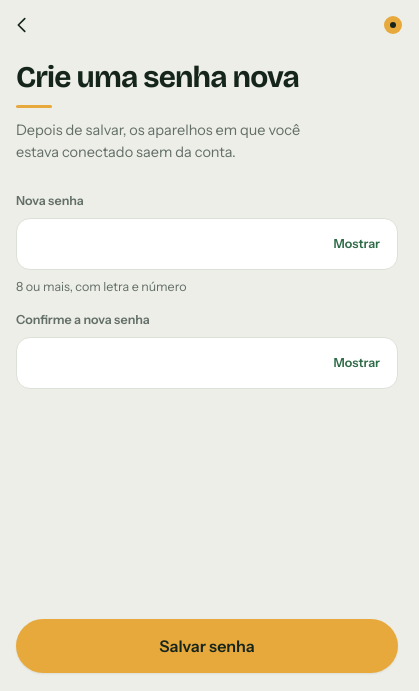
Test case: Redefinir senha › link vencido ou usado vira o estado de link inválido (CA06)
Type "novaSenha9" into the password field labelled "Nova senha".
click(207, 244); type("novaSenha9")  # box [16,218,398,270]
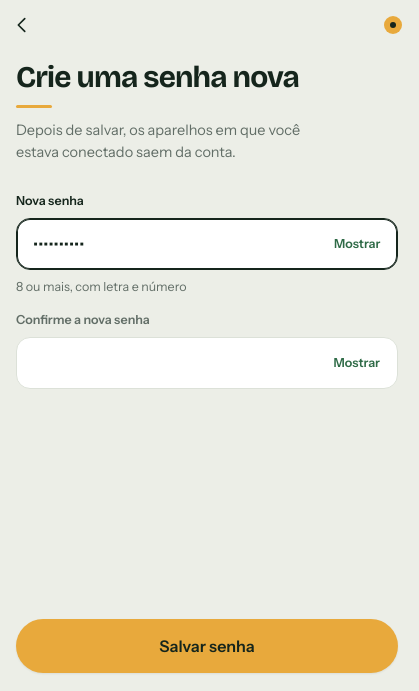
Type "novaSenha9" into the password field labelled "Confirme a nova senha".
click(207, 363); type("novaSenha9")  # box [16,337,398,389]
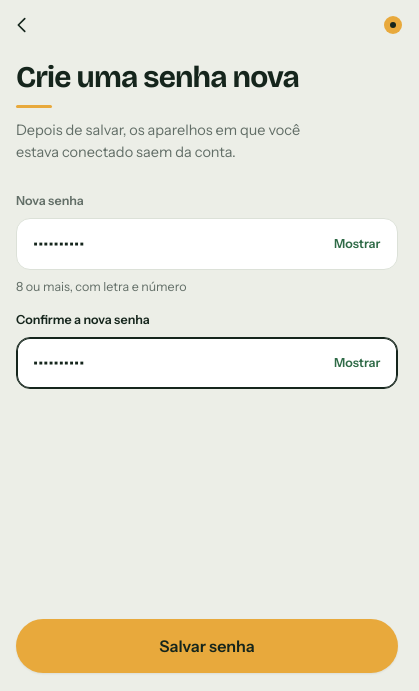
Click the button "Salvar senha".
click(207, 646)  # box [16,619,398,673]
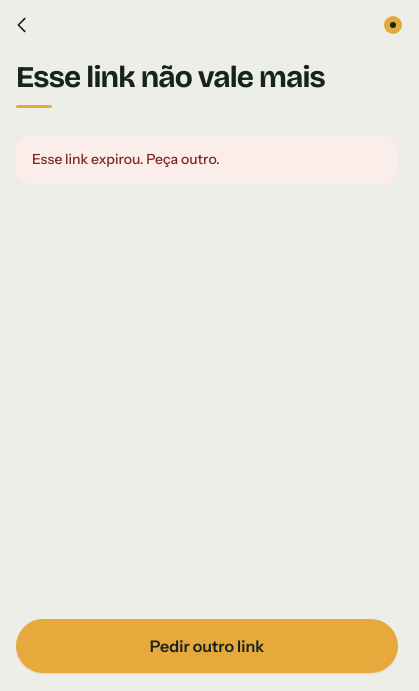
expect the link "Pedir outro link" is shown: met, box [16,619,398,673]
